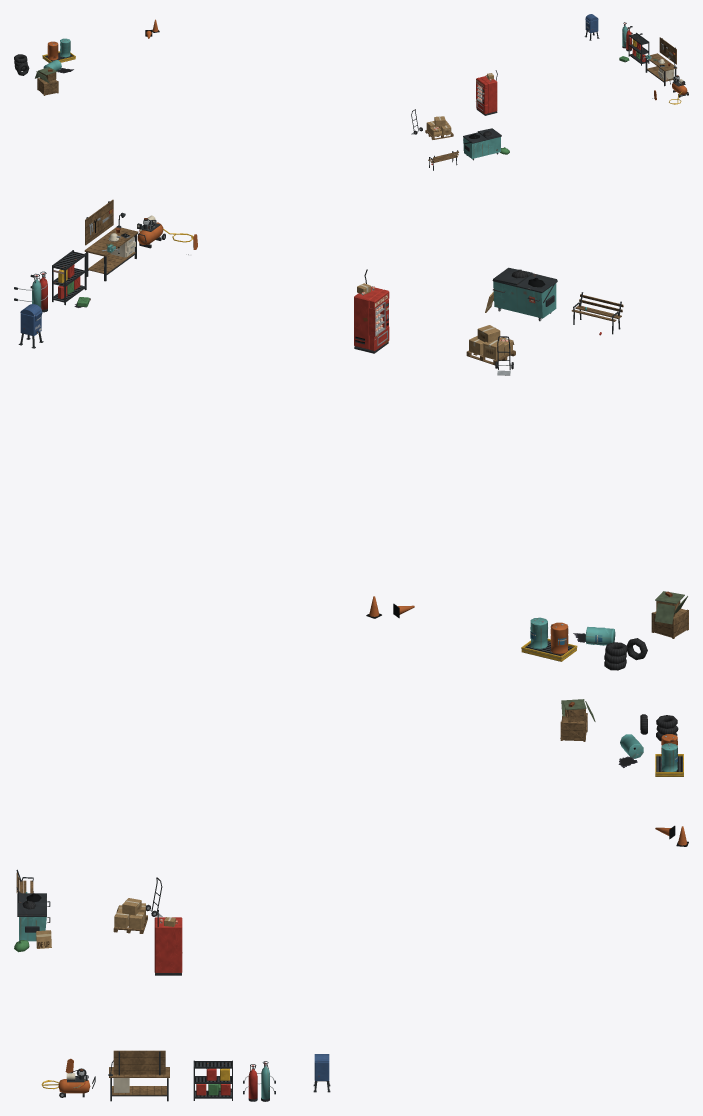
File: Yard.fbx
3 renders of one model, top to bottom at view 1: azimuth 30°, elevation 25°; view 2: azimuth 150°, elevation 25°; view 3: azimuth 270°, elevation 25°, orthographic. The views are drawn at different scales.
Parts seen in each view (by area): view 1: Yard; view 2: Yard; view 3: Yard.
Part boxes in pixels (x1,y1,x2,y2): Yard: (14,14,688,170); Yard: (14,199,688,670); Yard: (14,699,688,1101).
Bounding box in the file's own units: 30.88 × 2.56 × 23.3.
